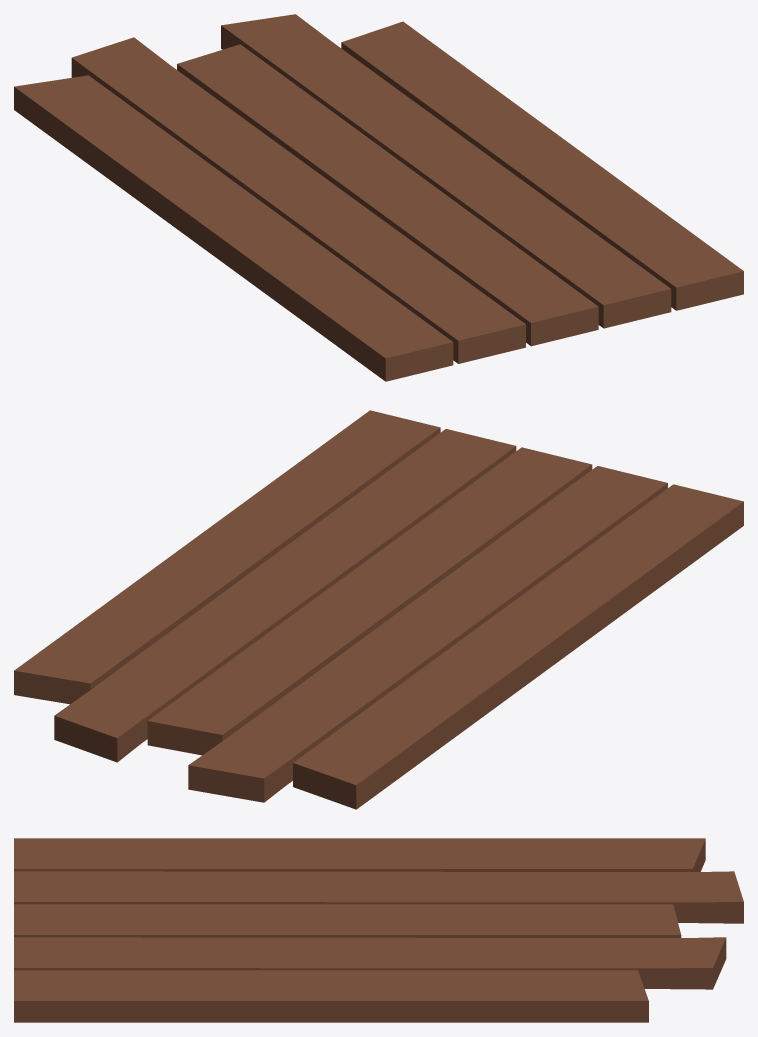
File: LPWarPack_PlankBoards1.fbx
The picture shows the model from 3 angles, top to bottom: view 1: azimuth 30°, elevation 25°; view 2: azimuth 150°, elevation 25°; view 3: azimuth 270°, elevation 25°; orthographic projection. The views are drawn at different scales.
Visible parts, largest first — view 1: PlankBoards1; view 2: PlankBoards1; view 3: PlankBoards1.
Boxes of the visible parts, box(x1,y1,x2,y2) form: PlankBoards1: box(14, 14, 743, 381); PlankBoards1: box(14, 410, 743, 809); PlankBoards1: box(14, 838, 743, 1022).
Bounding box in the file's own units: 84.21 × 5.24 × 159.
